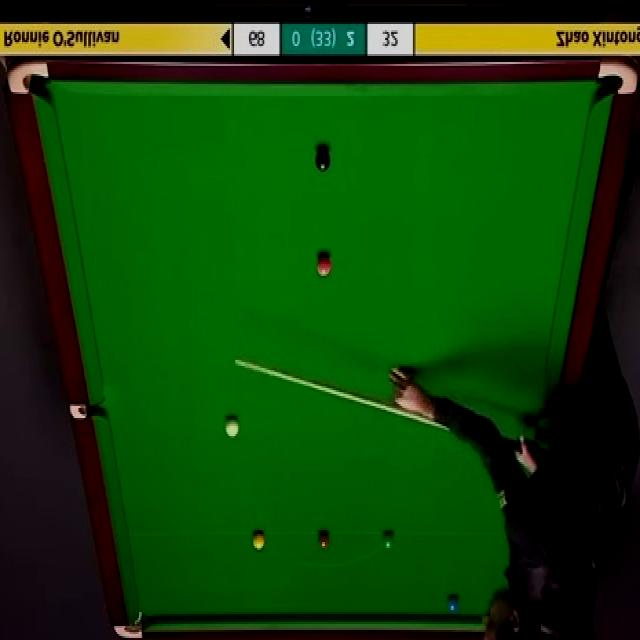black-ball: (314, 147, 331, 173)
blue-ball: (446, 596, 459, 613)
brown-ball: (316, 530, 331, 552)
green-ball: (380, 530, 395, 550)
pink-ball: (315, 254, 331, 277)
white-ball: (222, 416, 239, 442)
yellow-ball: (252, 531, 265, 552)
